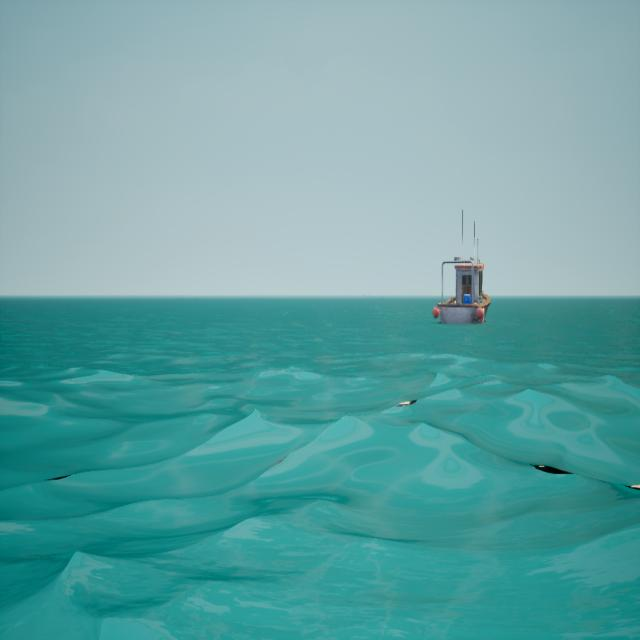ship: (428, 200, 494, 348)
